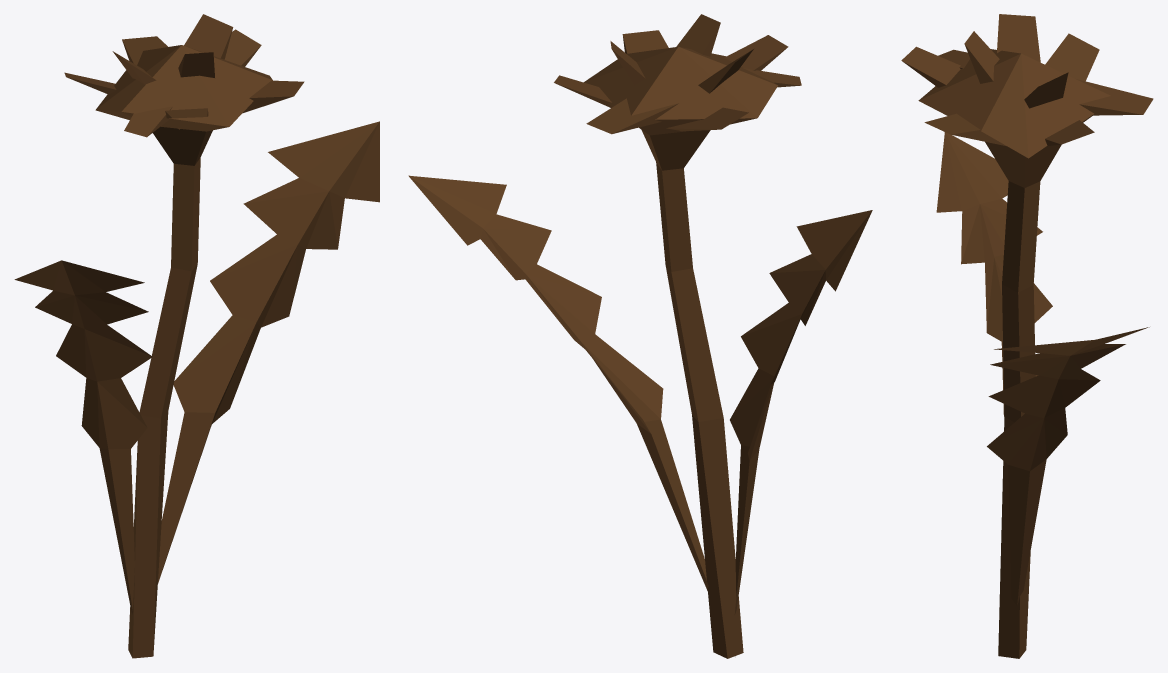
Rendered from SM_Flower_Dandelion_Single_Mature_A.fbx.
The picture shows the model from 3 angles, left to right: view 1: azimuth 30°, elevation 25°; view 2: azimuth 150°, elevation 25°; view 3: azimuth 270°, elevation 25°; orthographic projection. The views are drawn at different scales.
Visible parts, largest first — view 1: flower-dandelion-single-mature-a; view 2: flower-dandelion-single-mature-a; view 3: flower-dandelion-single-mature-a.
Part boxes in pixels (x1,y1,x2,y2): flower-dandelion-single-mature-a: (14, 14, 379, 658); flower-dandelion-single-mature-a: (408, 14, 872, 658); flower-dandelion-single-mature-a: (901, 14, 1153, 658).
Bounding box in the file's own units: 0.3179 × 0.4689 × 0.1678.
